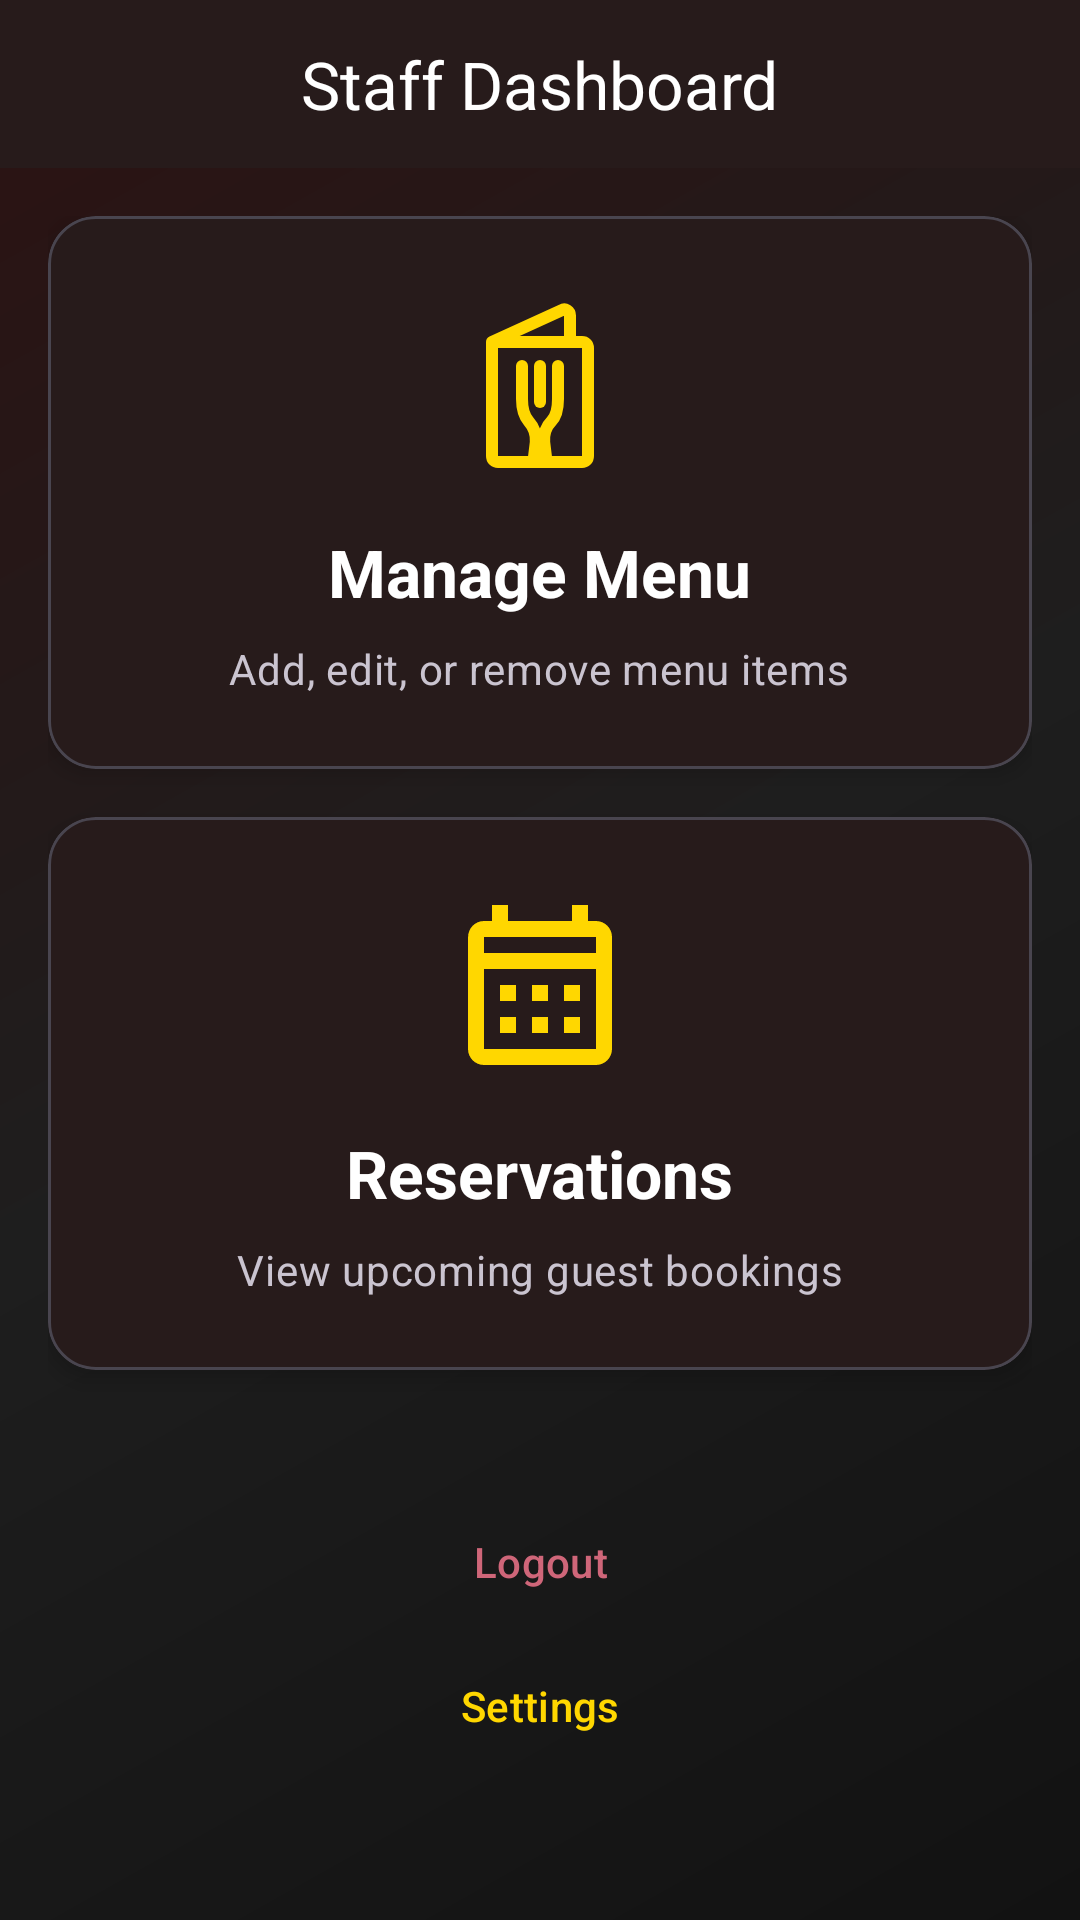

Screen size 1080 x 1920. Icon name, then its box in pixels as (x1,y1,x2,y2):
event: (468,905,612,1065)
restaurant menu: (486,303,594,468)
